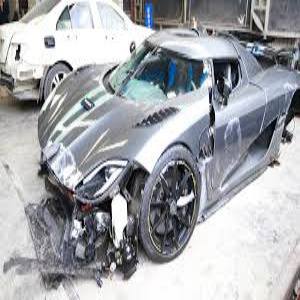bumper: (33, 183, 131, 278)
door: (210, 111, 277, 177)
